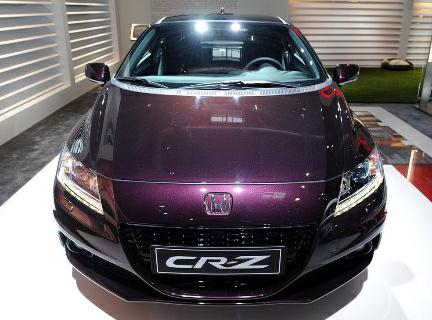本田-CR-Z: (49, 8, 393, 310)
